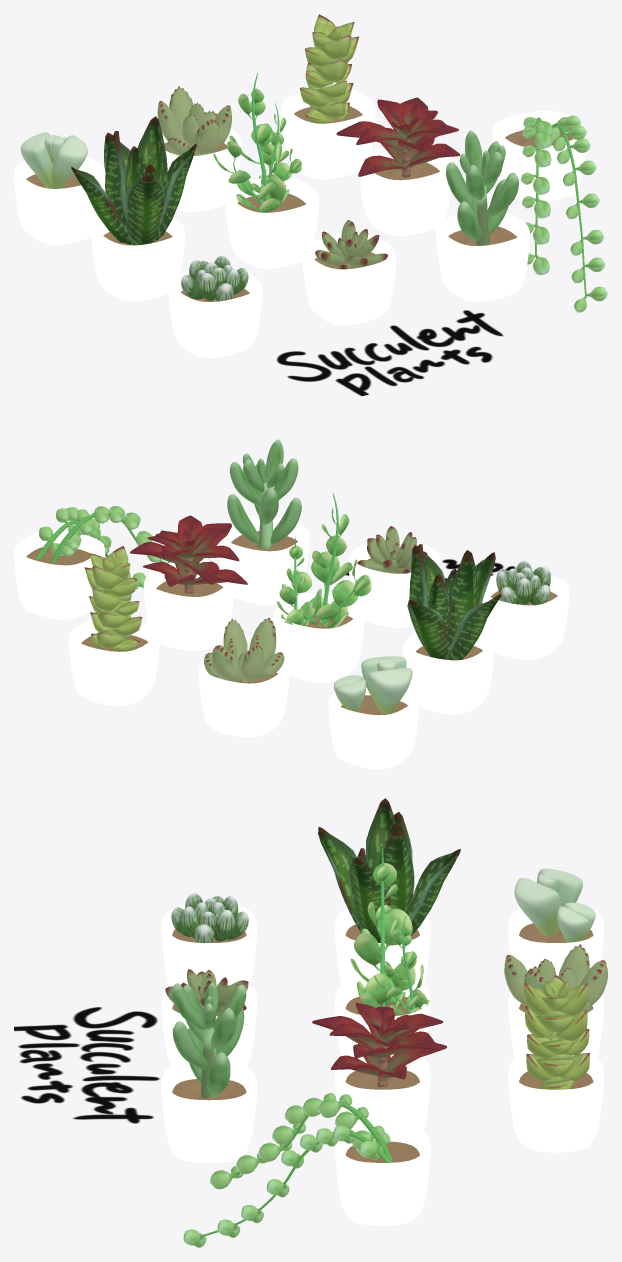
The picture shows the model from 3 angles, top to bottom: view 1: azimuth 30°, elevation 25°; view 2: azimuth 150°, elevation 25°; view 3: azimuth 270°, elevation 25°; orthographic projection. The views are drawn at different scales.
Visible parts, largest first — view 1: aroe, Pot004, Pot002, Pot007, Pot003, Pot006, Pot001, Pot008, momijimaturi, Pot009, object 64, uni (+10 smaller); view 2: aroe, Pot008, Pot010, Pot003, Pot009, Pot002, Pot001, uni, Pot005, Pot006, momijimaturi, Pot004 (+9 smaller); view 3: aroe, Pot004, Pot010, Pot008, object 64, jyuzuhoshi, momijimaturi, uni, Pot003, Pot006, green dram, Pot009 (+10 smaller).
Part boxes in pixels (x1=…): aroe: x1=71, y1=116, x2=196, y2=245; Pot004: x1=436, y1=209, x2=529, y2=302; Pot002: x1=225, y1=177, x2=318, y2=268; Pot007: x1=302, y1=232, x2=396, y2=325; Pot003: x1=358, y1=147, x2=451, y2=236; Pot006: x1=168, y1=266, x2=262, y2=357; Pot001: x1=91, y1=217, x2=185, y2=301; Pot008: x1=281, y1=89, x2=375, y2=179; momijimaturi: x1=336, y1=97, x2=460, y2=177; Pot009: x1=14, y1=156, x2=105, y2=244; object 64: x1=276, y1=310, x2=503, y2=396; uni: x1=446, y1=130, x2=518, y2=245; aroe: x1=407, y1=544, x2=500, y2=660; Pot008: x1=69, y1=619, x2=159, y2=706; Pot010: x1=14, y1=529, x2=105, y2=619; Pot003: x1=143, y1=562, x2=234, y2=651; Pot009: x1=328, y1=687, x2=419, y2=769; Pot002: x1=273, y1=593, x2=364, y2=682; Pot001: x1=403, y1=632, x2=494, y2=714; uni: x1=227, y1=439, x2=301, y2=549; Pot005: x1=198, y1=648, x2=289, y2=737; Pot006: x1=482, y1=570, x2=569, y2=659; momijimaturi: x1=130, y1=515, x2=247, y2=593; Pot004: x1=218, y1=515, x2=309, y2=605; aroe: x1=318, y1=798, x2=460, y2=942; Pot004: x1=161, y1=1061, x2=257, y2=1162; Pot010: x1=335, y1=1123, x2=430, y2=1225; Pot008: x1=508, y1=1052, x2=603, y2=1152; object 64: x1=14, y1=1007, x2=159, y2=1123; jyuzuhoshi: x1=524, y1=975, x2=589, y2=1089; momijimaturi: x1=312, y1=1002, x2=446, y2=1086; uni: x1=172, y1=982, x2=246, y2=1098; Pot003: x1=335, y1=1052, x2=430, y2=1130; Pot006: x1=161, y1=905, x2=257, y2=984; green dram: x1=350, y1=848, x2=415, y2=1010; Pot009: x1=508, y1=907, x2=603, y2=976.
Size of the model in its own units: 3.73 by 1.7 by 3.43.
6 materials, 2 textured.
